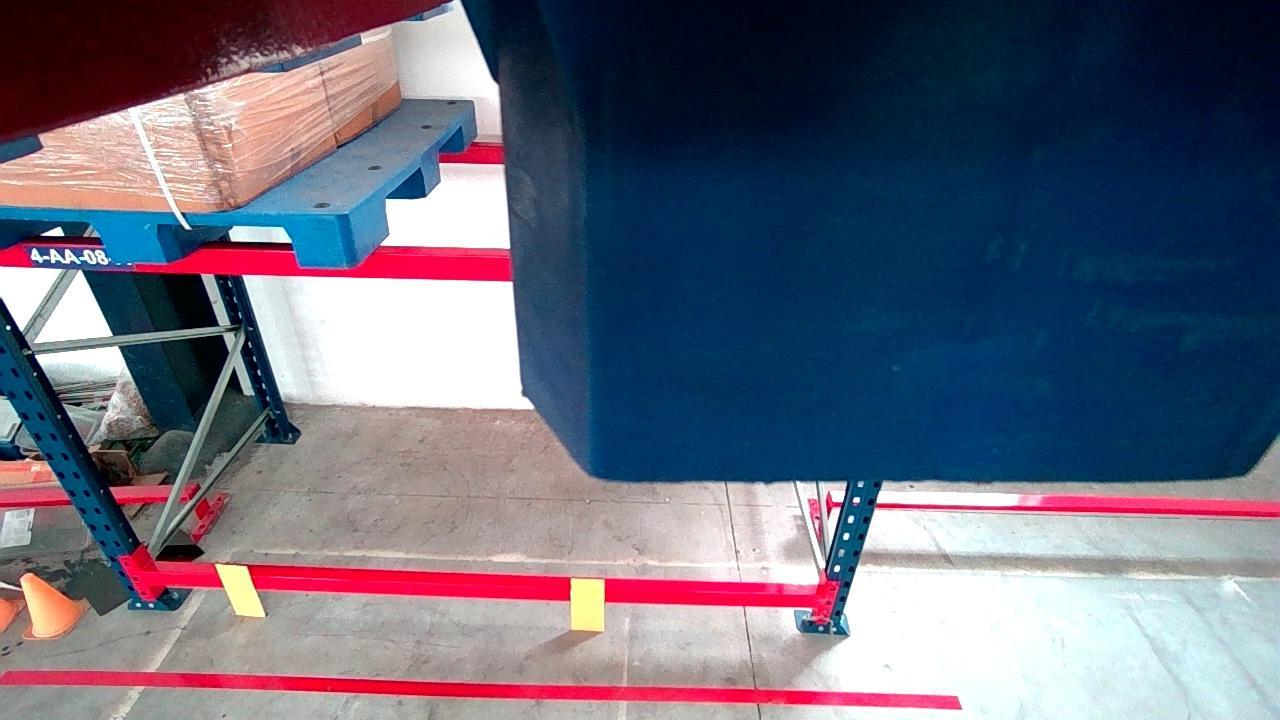h_rack: (142, 571, 816, 608), (0, 247, 509, 279)
orange_strip: (214, 563, 266, 618), (570, 577, 602, 633)
small_pallet: (0, 209, 348, 269)
